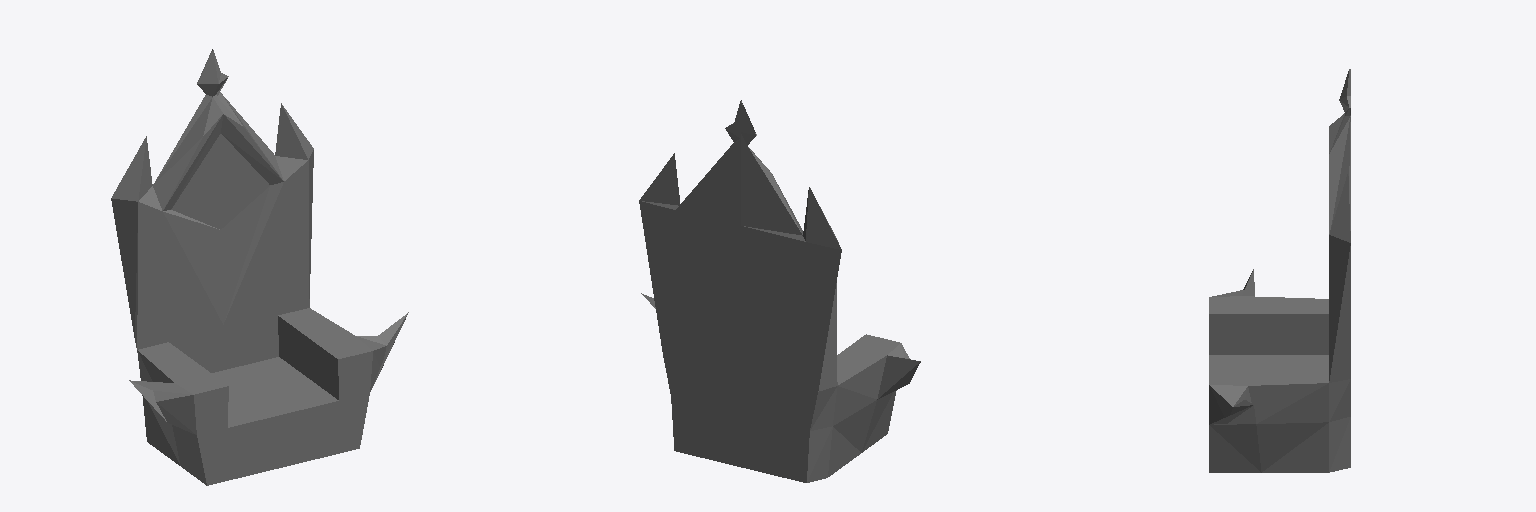
Rendered from thronedevill.obj.
3 views of the same model, side by side, from view 1: azimuth 30°, elevation 25°; view 2: azimuth 150°, elevation 25°; view 3: azimuth 270°, elevation 25° (orthographic).
Visible parts, largest first — view 1: pasted__thronedevill group4; view 2: pasted__thronedevill group4; view 3: pasted__thronedevill group4.
Part boxes in pixels (bbox=[...]): pasted__thronedevill group4: bbox=[111, 49, 408, 485]; pasted__thronedevill group4: bbox=[639, 100, 920, 482]; pasted__thronedevill group4: bbox=[1209, 69, 1350, 472].
Size of the model in its own units: 21.6 by 27 by 9.47.